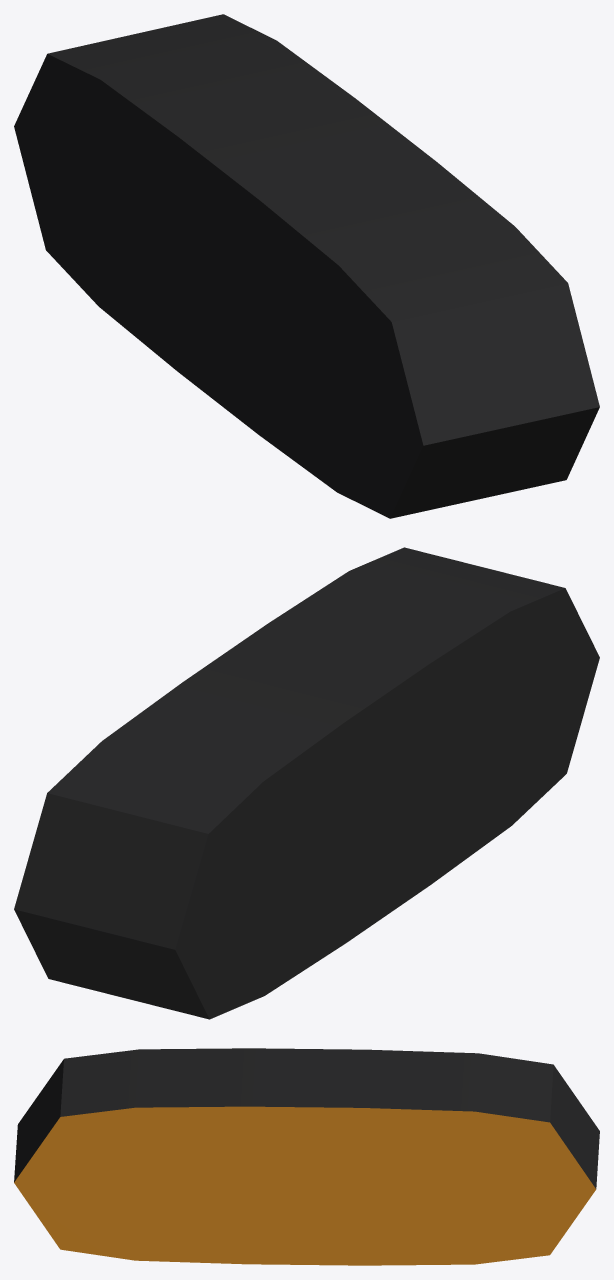
Rendered from side_repeater_L.glb.
The picture shows the model from 3 angles, top to bottom: view 1: azimuth 30°, elevation 25°; view 2: azimuth 150°, elevation 25°; view 3: azimuth 270°, elevation 25°; orthographic projection. The views are drawn at different scales.
Visible parts, largest first — view 1: side_repeater_L; view 2: side_repeater_L; view 3: side_repeater_L.
Part boxes in pixels (bbox=[...]): side_repeater_L: bbox=[14, 14, 599, 518]; side_repeater_L: bbox=[14, 547, 599, 1019]; side_repeater_L: bbox=[14, 1048, 599, 1265].
Bounding box in the file's own units: 0.0156 × 0.0181 × 0.0604.
